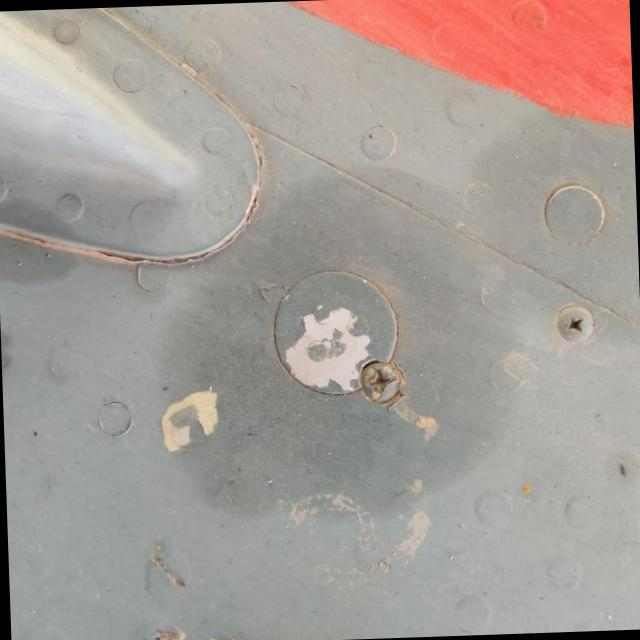Paint-off: (273, 303, 375, 399), (153, 388, 223, 454)
